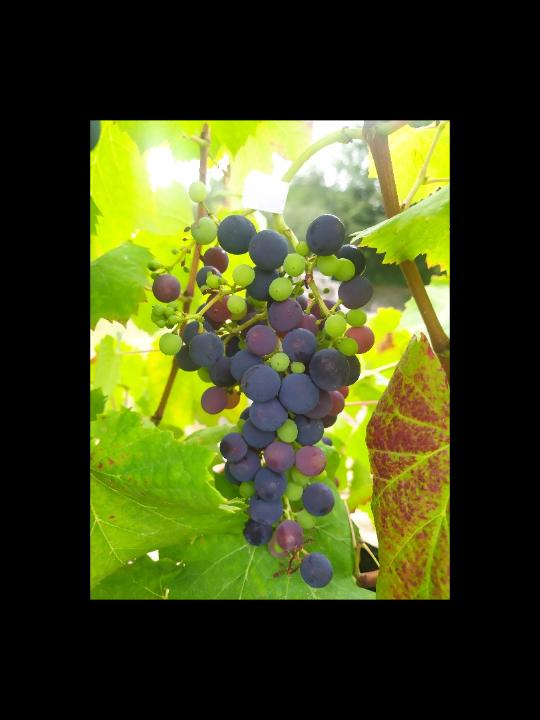grape: (150, 178, 376, 590)
